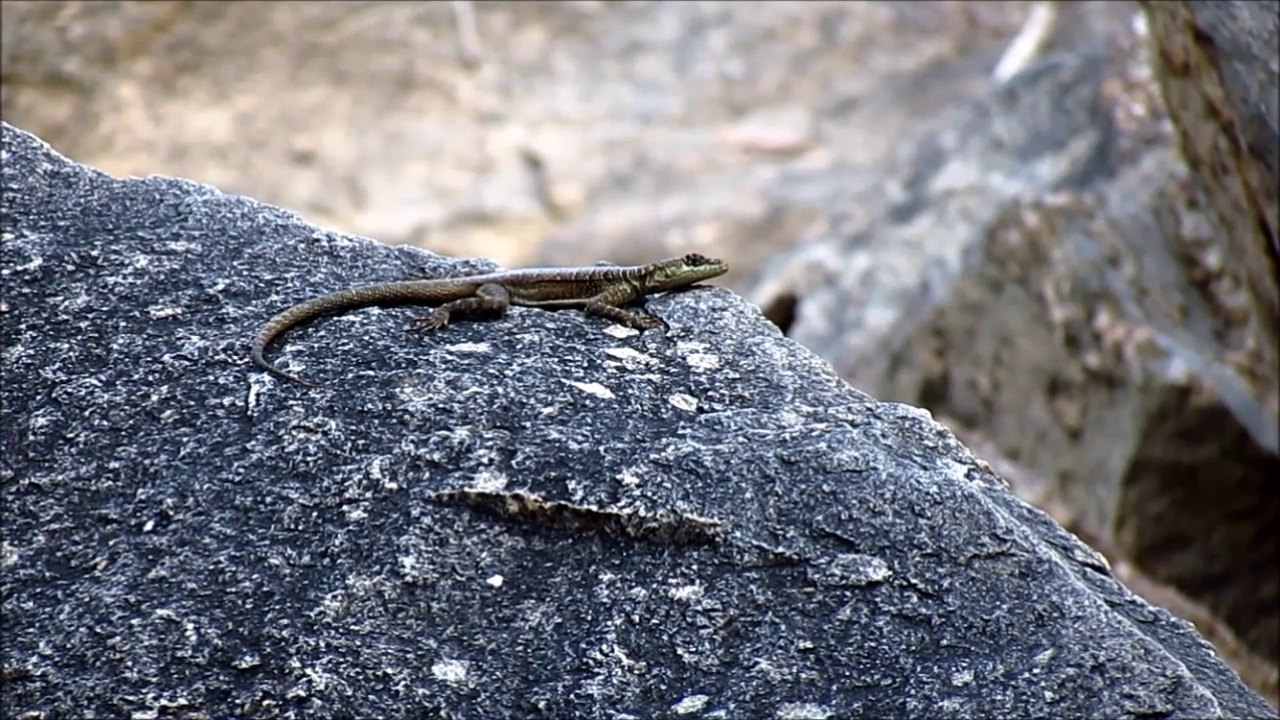body: (252, 261, 659, 381)
head: (648, 252, 729, 295)
